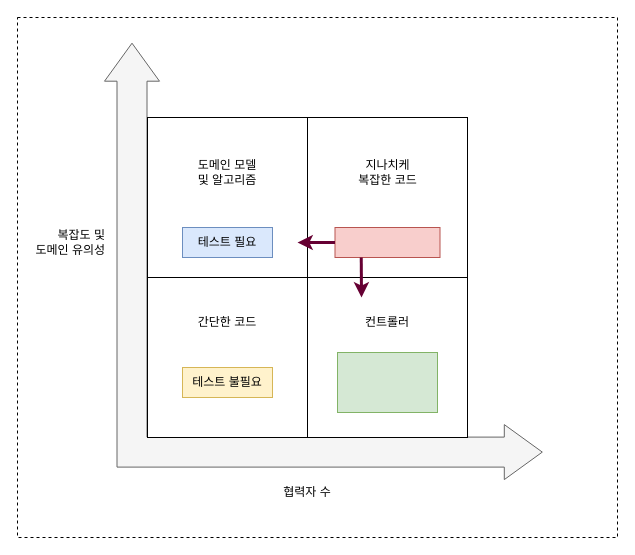
The diagram is 635 pixels wide and 555 high, and some of its shapes have lost their labels. Here are the shapes that lost their labels. From the top down, the centre of each, then its label:
At (387,242): "도메인 계층과 컨트롤러 분리 필요".
At (387,382): "포괄적인 통합 테스트의 일부로 간단히 테스트".
